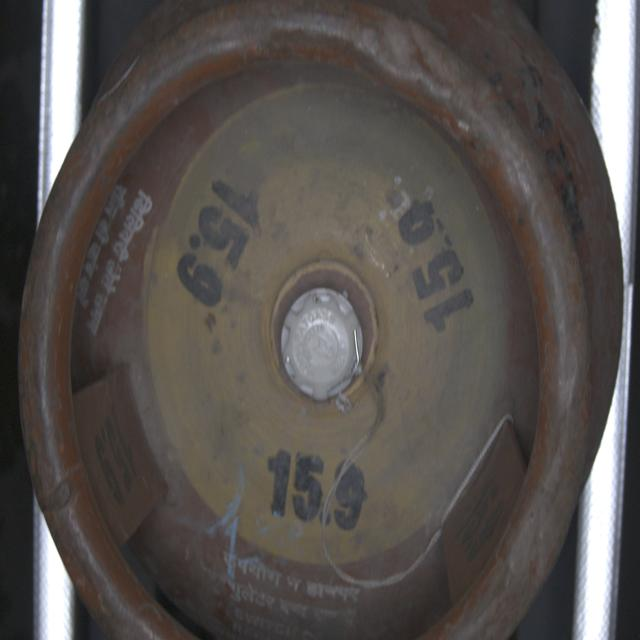Cap: (279, 282, 363, 406)
